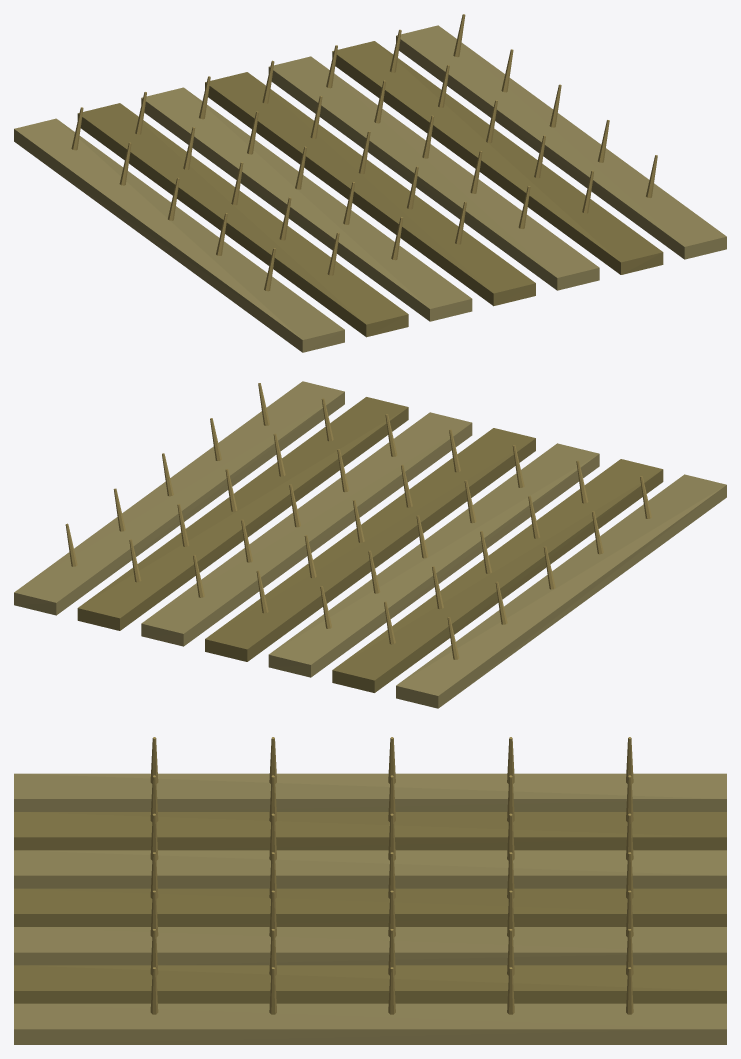
File: farmland.glb
3 views of the same model, one above another, from view 1: azimuth 30°, elevation 25°; view 2: azimuth 150°, elevation 25°; view 3: azimuth 270°, elevation 25° (orthographic). The views are drawn at different scales.
Parts seen in each view (by area): view 1: world-scenery/farmland; view 2: world-scenery/farmland; view 3: world-scenery/farmland.
Boxes of the visible parts, <box> form: world-scenery/farmland: <box>14,14,726,352</box>; world-scenery/farmland: <box>14,381,726,708</box>; world-scenery/farmland: <box>14,737,726,1044</box>.
Size of the model in its own units: 2.8 by 0.3514 by 3.3.
